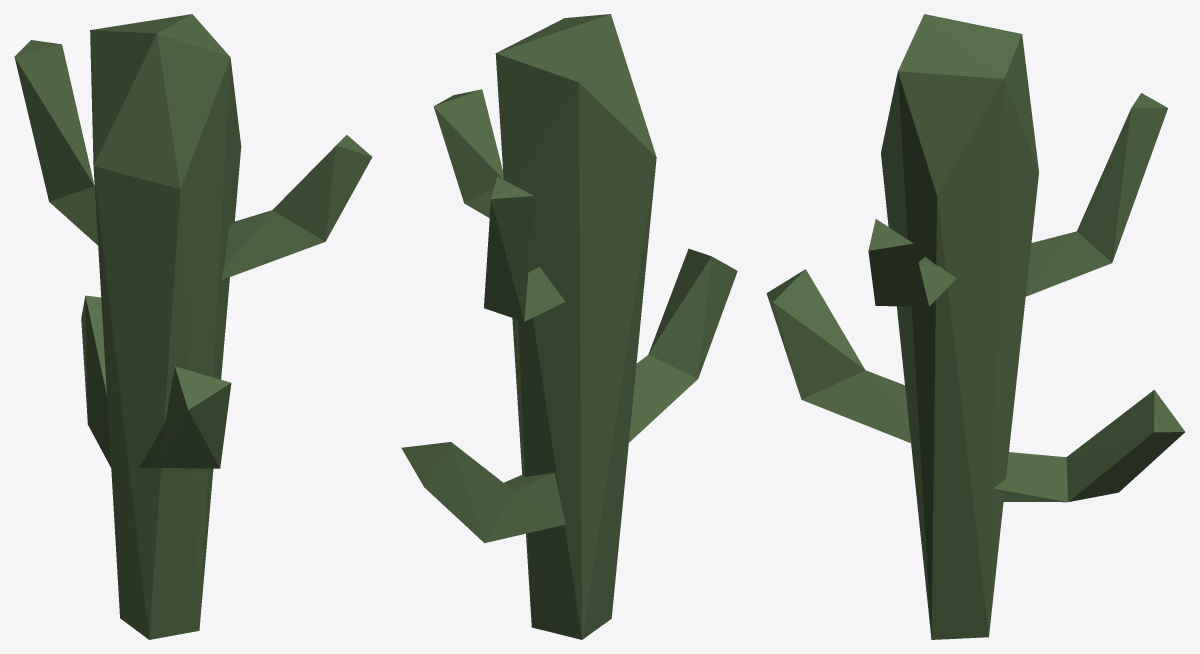
File: Cactus_2.lod3.glb
The picture shows the model from 3 angles, left to right: view 1: azimuth 30°, elevation 25°; view 2: azimuth 150°, elevation 25°; view 3: azimuth 270°, elevation 25°; orthographic projection.
Parts seen in each view (by area): view 1: Cactus_2; view 2: Cactus_2; view 3: Cactus_2.
Part boxes in pixels (x1,y1,x2,y2): Cactus_2: [14, 14, 372, 639]; Cactus_2: [401, 14, 737, 639]; Cactus_2: [766, 14, 1184, 639].
Bounding box in the file's own units: 0.6943 × 1.67 × 1.05.
